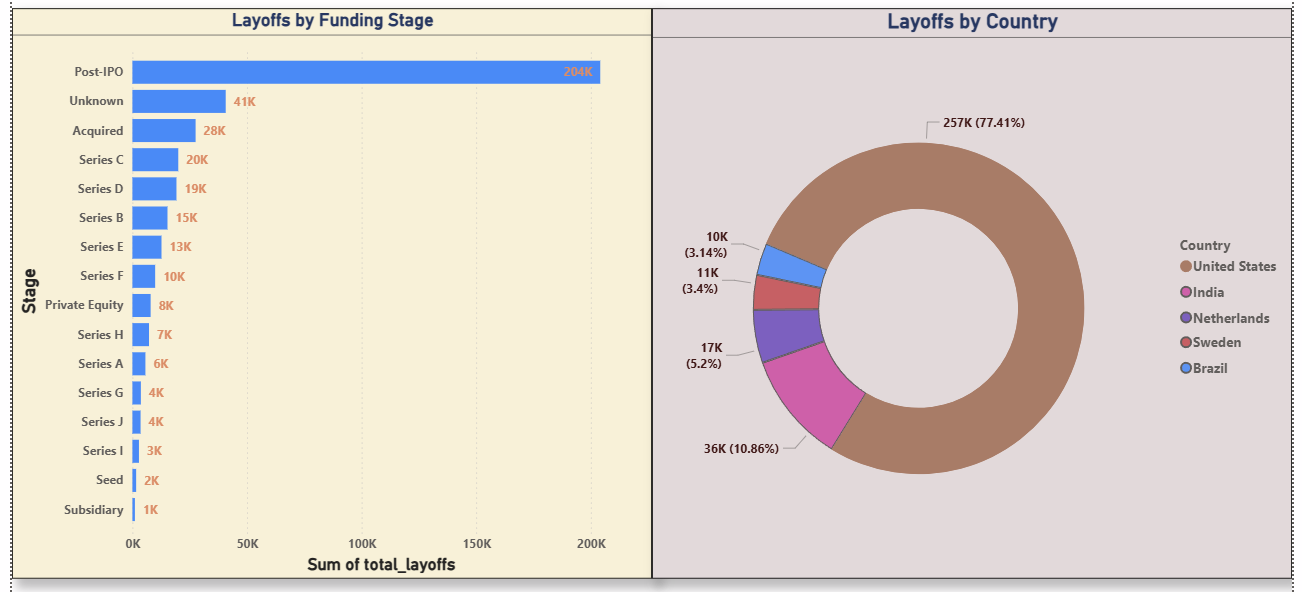

This screenshot's page, from the dashboard's own definition file:
{"tool":"powerbi","page":{"name":" Details","canvas":[1280,720],"ordinal":3},"visuals":[{"type":"clusteredBarChart","title":"Layoffs by Funding Stage","fields":{"Category":["funding_stage_analysis.stage"],"Y":["Sum(funding_stage_analysis.total_layoffs)"]},"box":[0,111.2,640,570],"z":0},{"type":"donutChart","title":"Layoffs by Country","fields":{"Category":["country_breakdown.country"],"Y":["Sum(country_breakdown.total_layoffs)"]},"box":[640,111.2,640,570],"z":1000}]}

Visuals, with their boxes on the page's 1280x720 design canvas (x1, y1, x2, y2). These are canvas units, not pixel positions in the 1302x592 screenshot, which may show the page scaled, cropped or inside an application window:
"Layoffs by Funding Stage" clusteredBarChart: x1=0 y1=111 x2=640 y2=681
"Layoffs by Country" donutChart: x1=640 y1=111 x2=1280 y2=681
